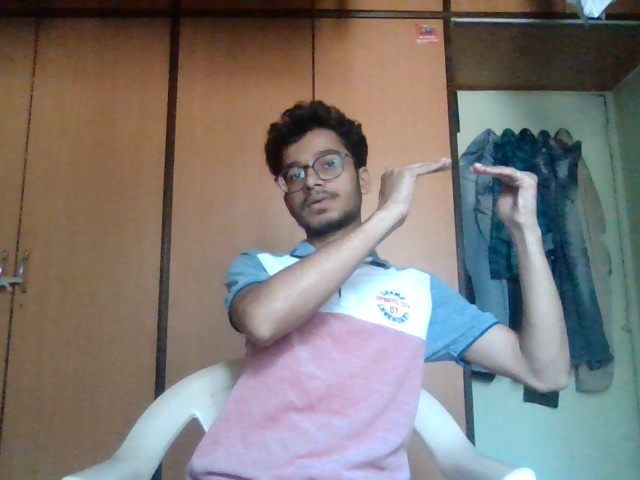afternoon: (339, 146, 575, 289)
